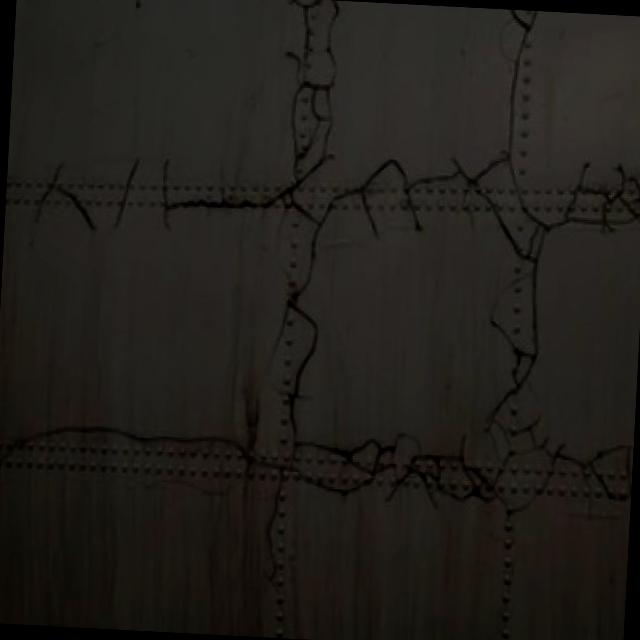crack: (21, 127, 640, 268), (0, 406, 634, 515), (246, 0, 349, 592), (474, 11, 560, 512)
